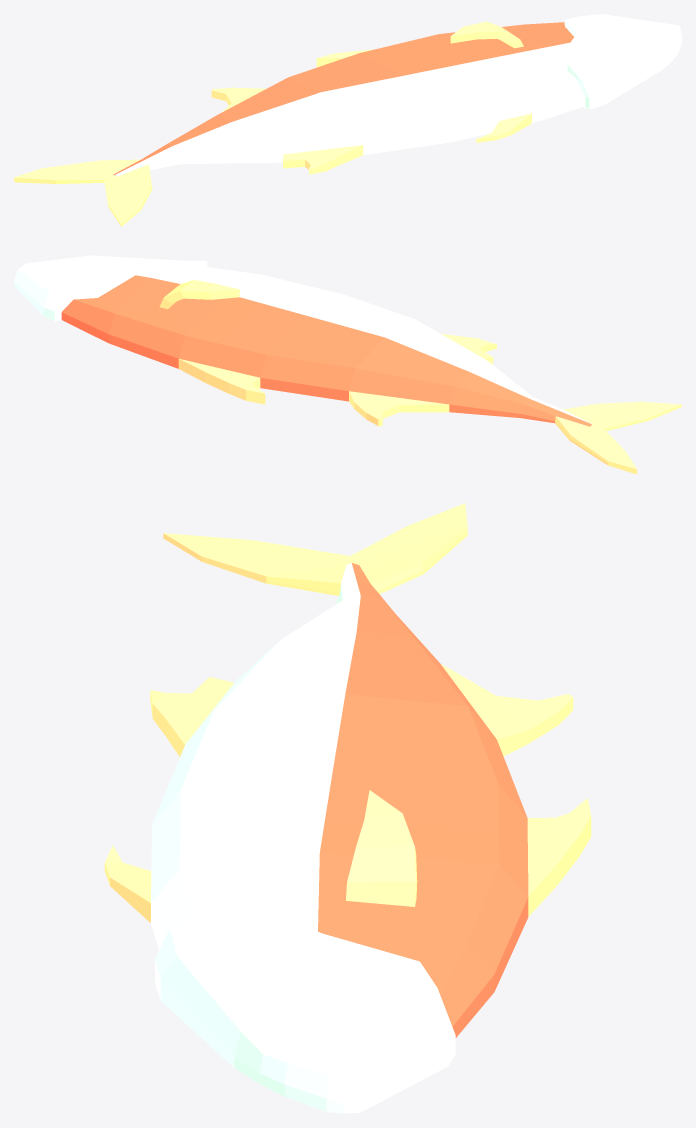
The model's file is Fish.glb.
3 views of the same model, one above another, from view 1: azimuth 30°, elevation 25°; view 2: azimuth 150°, elevation 25°; view 3: azimuth 270°, elevation 25° (orthographic). The views are drawn at different scales.
Visible parts, largest first — view 1: Fish; view 2: Fish; view 3: Fish.
Part boxes in pixels (x1=…): Fish: x1=14, y1=14, x2=681, y2=226; Fish: x1=14, y1=255, x2=681, y2=474; Fish: x1=104, y1=503, x2=591, y2=1113.
Bounding box in the file's own units: 320 × 30.3 × 106.
